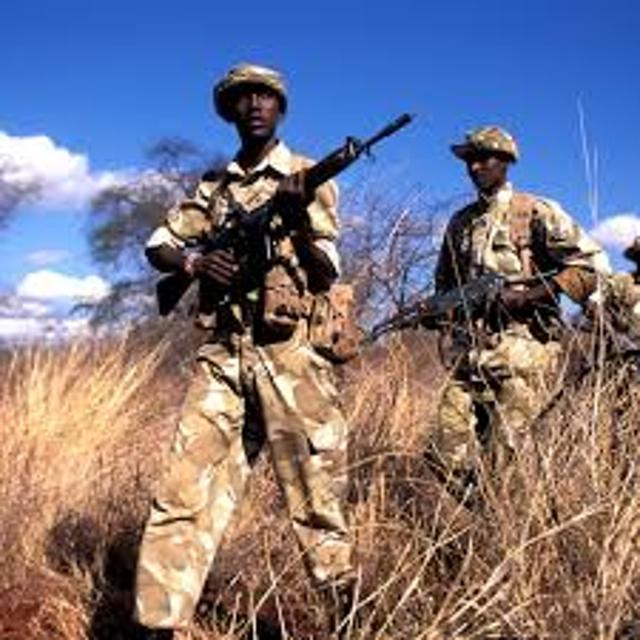gun: (123, 94, 432, 332), (328, 250, 611, 375)
ranger: (75, 38, 416, 640), (377, 92, 640, 547)
